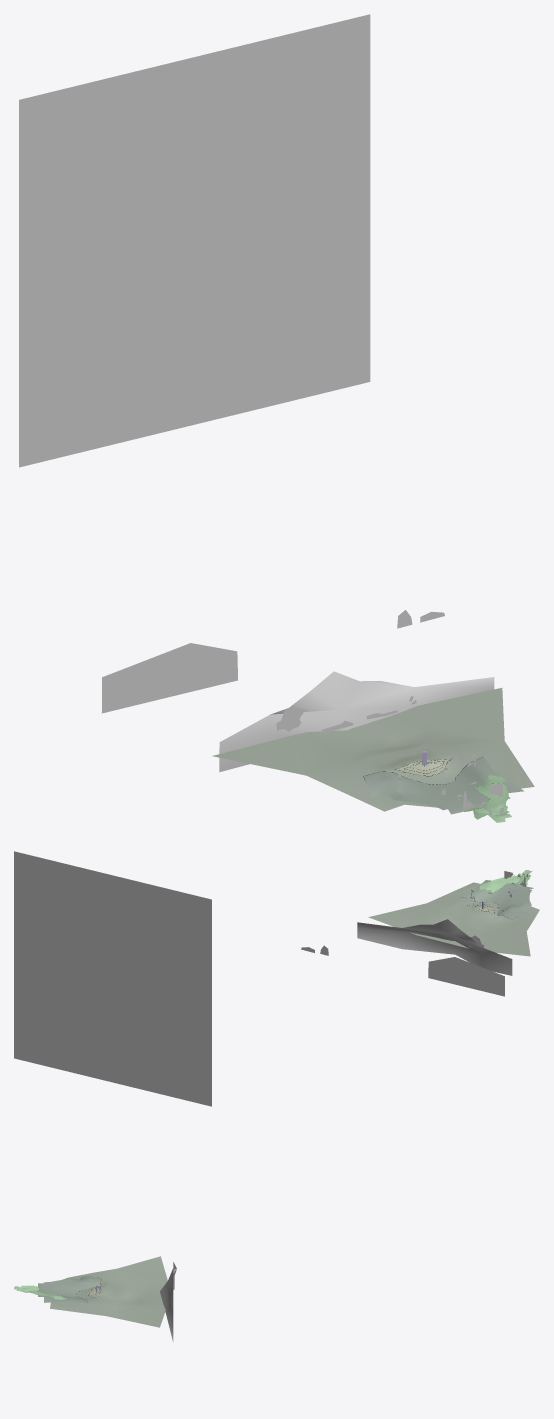
File: landscape3.glb
3 renders of one model, top to bottom at view 1: azimuth 30°, elevation 25°; view 2: azimuth 150°, elevation 25°; view 3: azimuth 270°, elevation 25°, orthographic. The views are drawn at different scales.
Visible parts, largest first — view 1: clouds, LANDSCAPE_3, mountains, LANDSCAPE_2, LANDSCAPE_1; view 2: clouds, mountains, LANDSCAPE_3, LANDSCAPE_2, LANDSCAPE_1; view 3: LANDSCAPE_3, LANDSCAPE_2, mountains.
Boxes of the visible parts, box(x1,y1,x2,y2) form: clouds: box(19, 14, 370, 467); LANDSCAPE_3: box(212, 688, 534, 811); mountains: box(101, 610, 494, 772); LANDSCAPE_2: box(363, 757, 524, 814); LANDSCAPE_1: box(464, 775, 511, 822); clouds: box(14, 851, 211, 1106); mountains: box(301, 919, 512, 996); LANDSCAPE_3: box(368, 882, 539, 956); LANDSCAPE_2: box(460, 880, 533, 919); LANDSCAPE_1: box(479, 870, 532, 892); LANDSCAPE_3: box(50, 1256, 167, 1327); LANDSCAPE_2: box(37, 1275, 101, 1302); mountains: box(160, 1262, 176, 1342).
Size of the model in its own units: 208 by 128 by 332.
